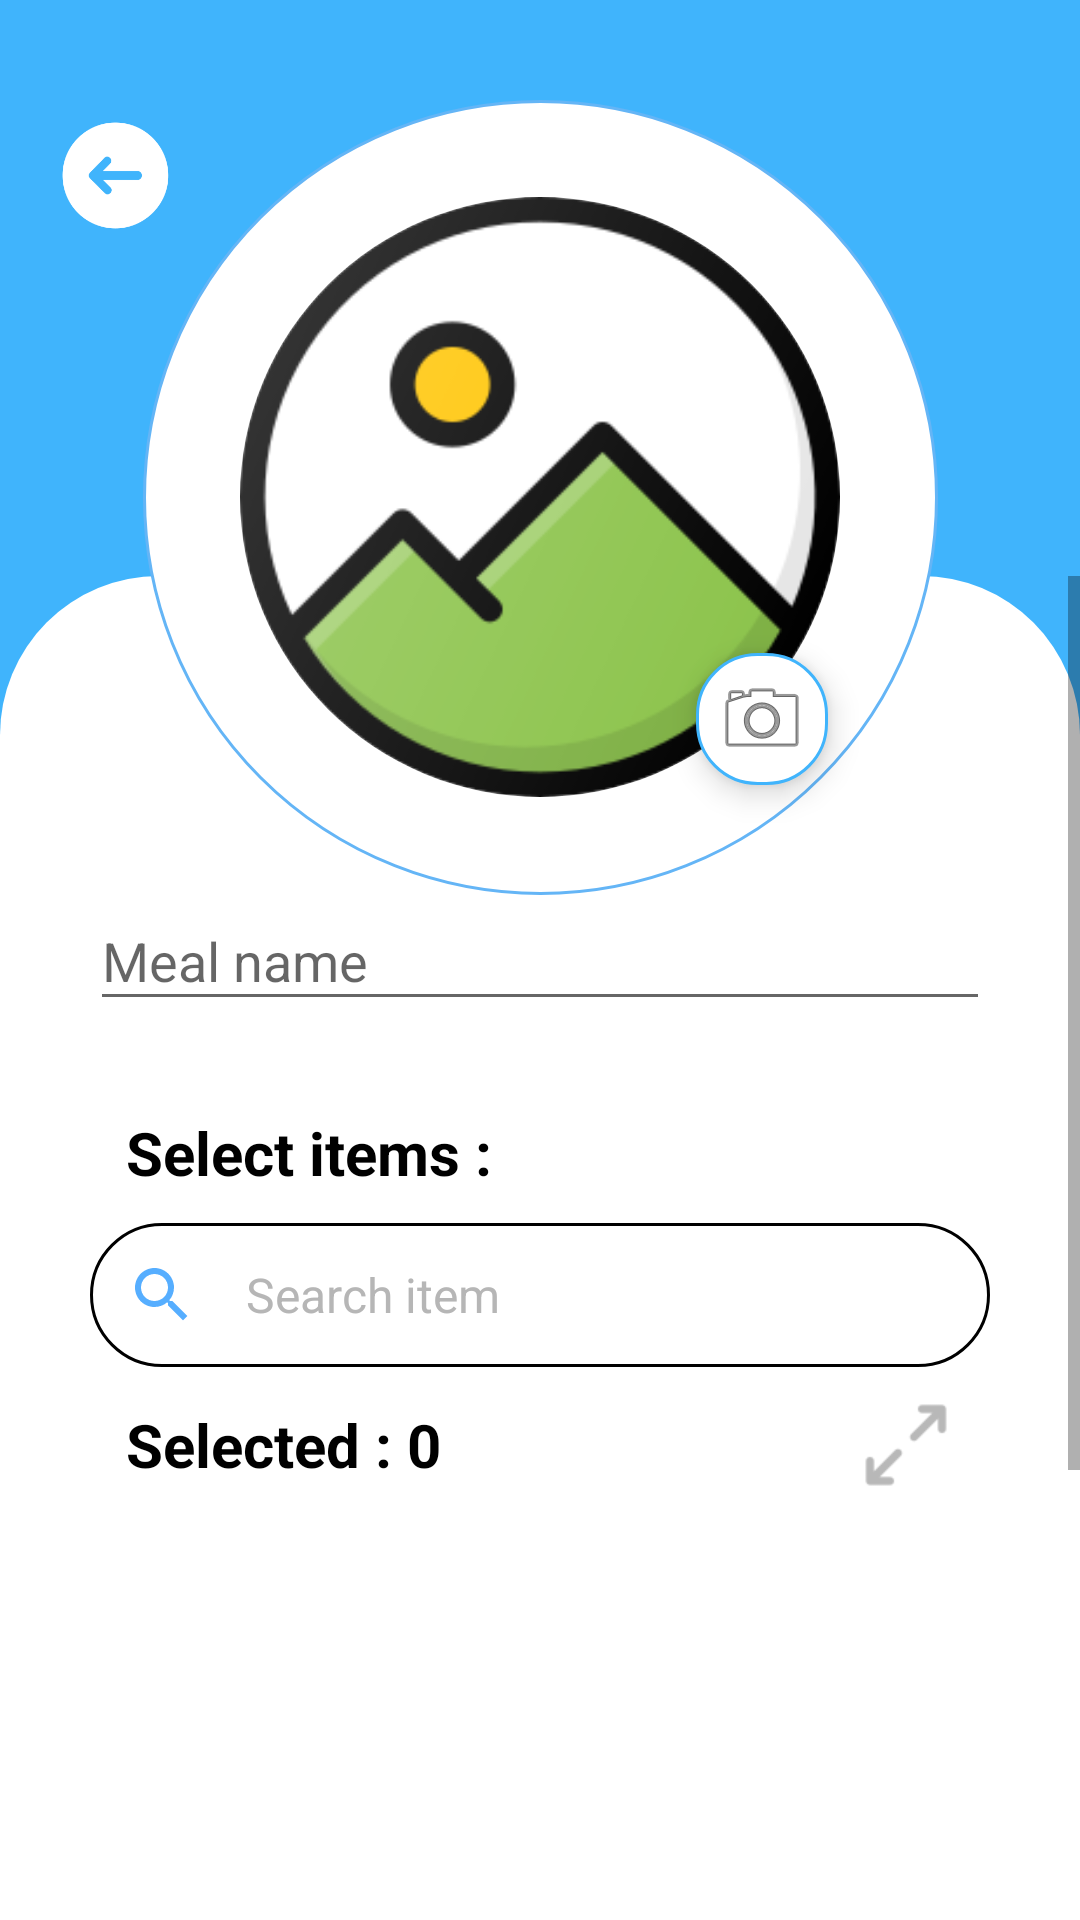

Point at icon controls on the screen. Image size 1080 × 1920, points as point (x, y).
back arrow: point (115, 175)
change photo: point (762, 719)
full screen: point (906, 1445)
